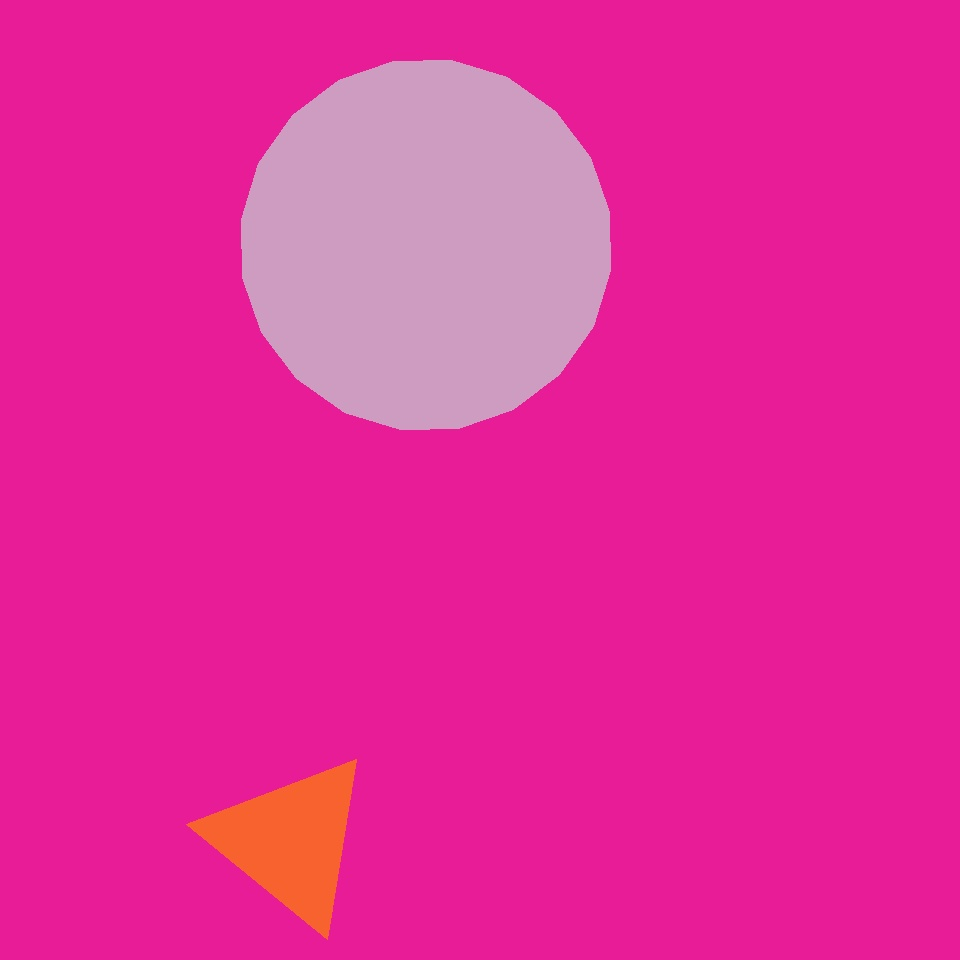circle: (205, 751, 375, 931)
triangle: (241, 60, 610, 430)
